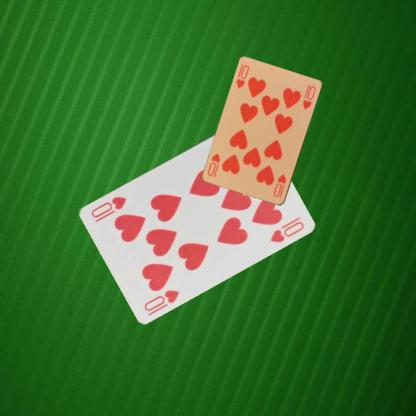10h: (142, 286, 180, 312), (233, 63, 251, 90), (270, 172, 288, 198)
